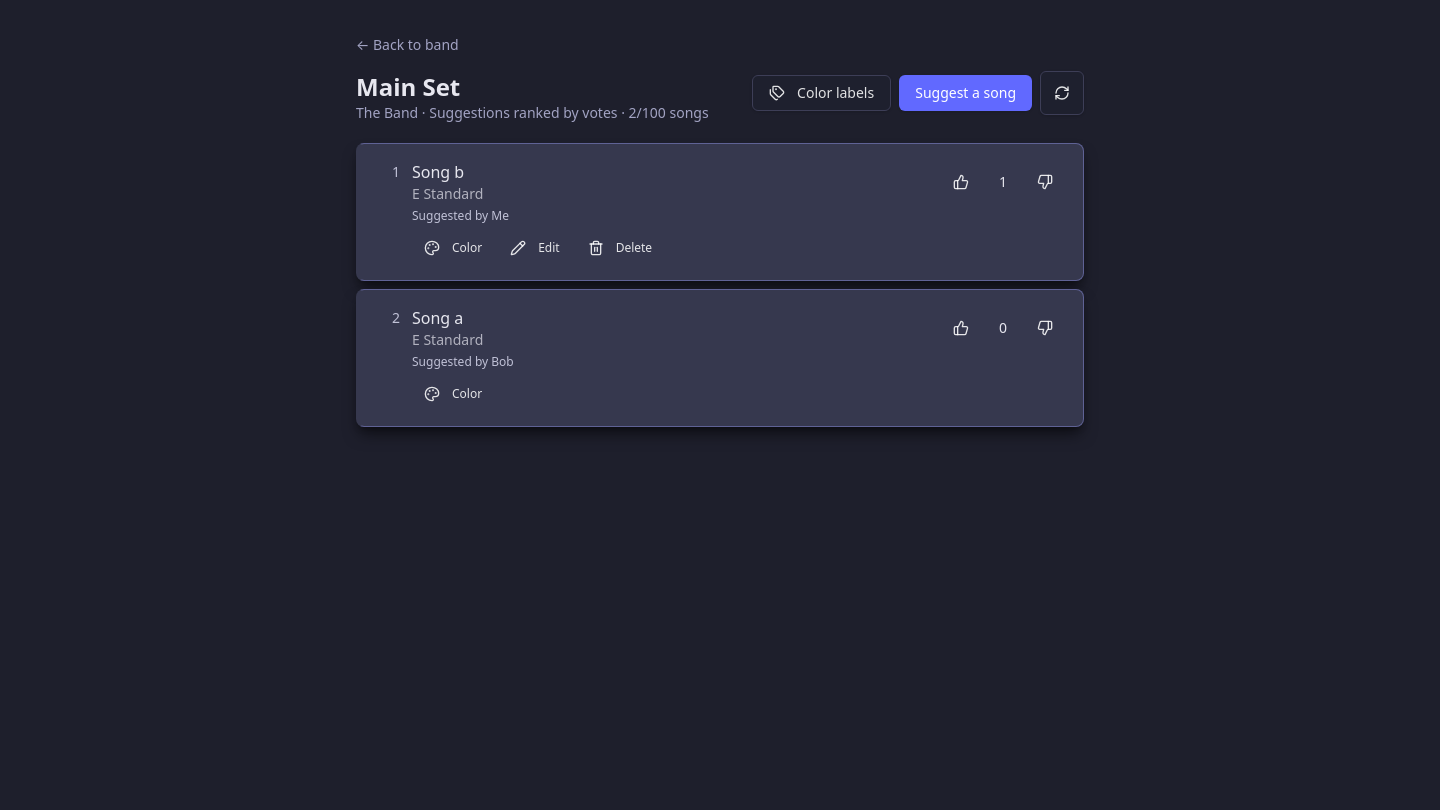
Scenario: SetListPage › color labels › Color labels dialog › saving a new label writes it for the band with no row of mine yet, shows it at once and closes
The image size is (1440, 810).
Expected: the text "Song a" is shown, x1=412 y1=307 x2=463 y2=329
Click the button "Color labels": {"x": 822, "y": 93} x1=752 y1=75 x2=891 y2=111
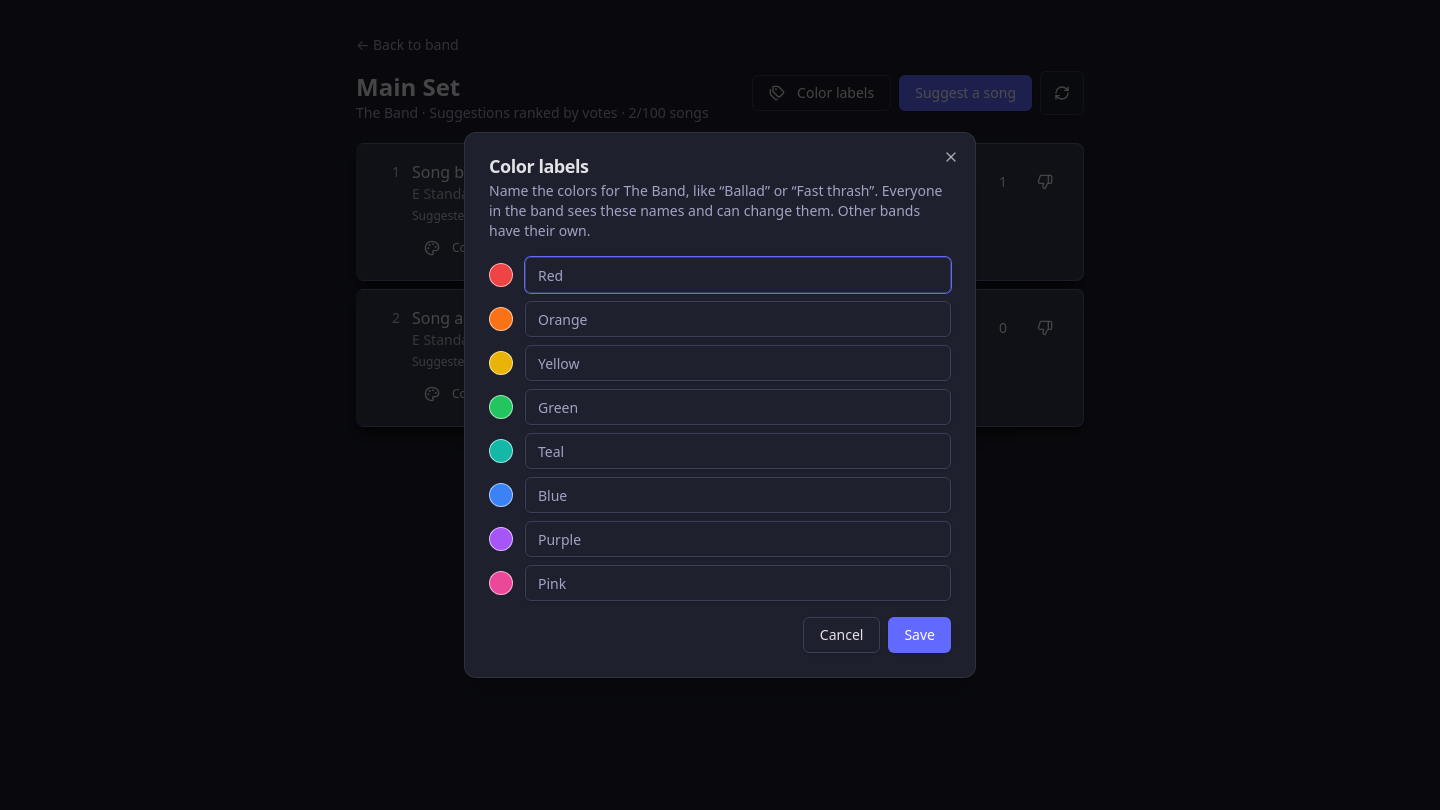
In the field with placeholder "Red": {"x": 738, "y": 275} x1=525 y1=257 x2=951 y2=293, type "Ballad"
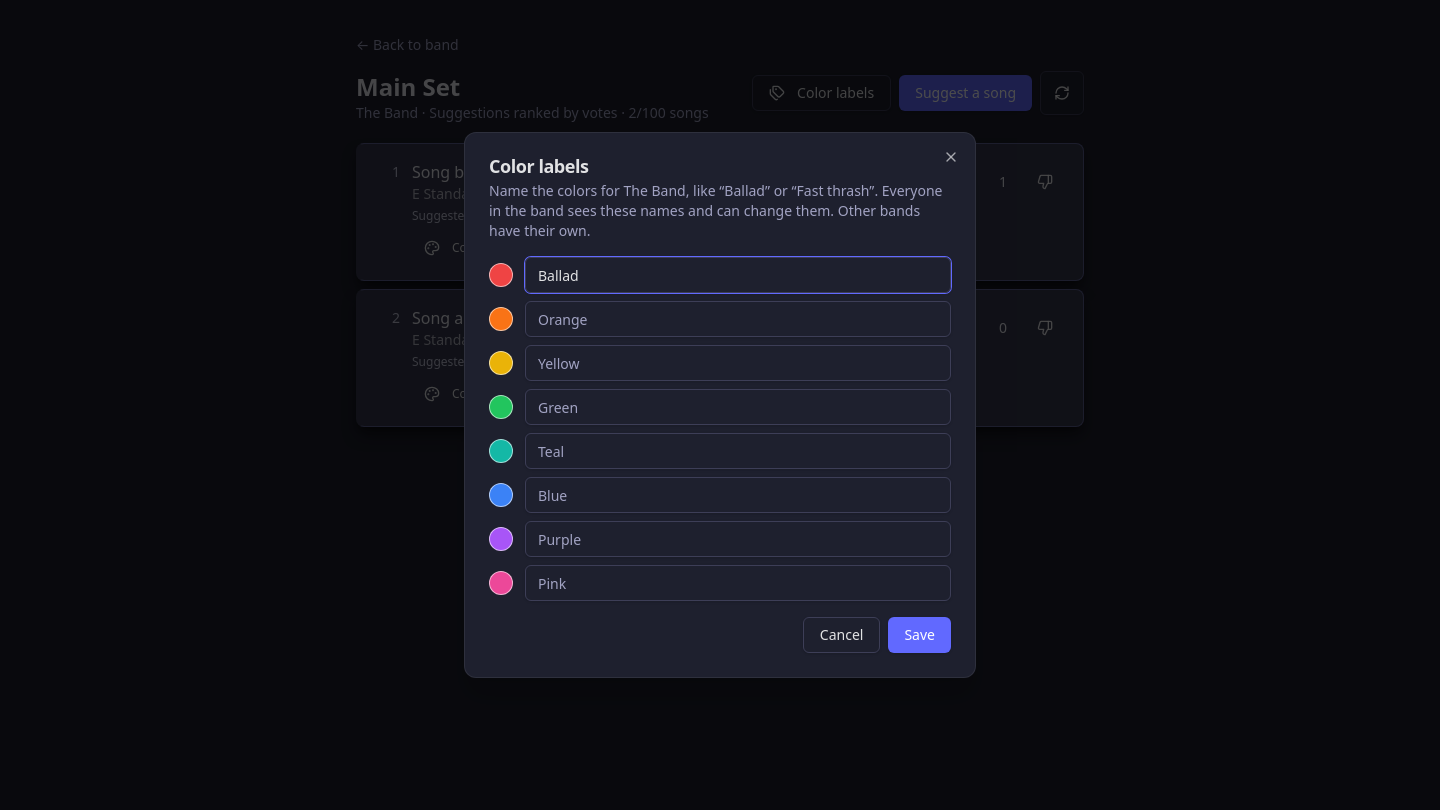
Click the button "Save": {"x": 920, "y": 635} x1=888 y1=617 x2=951 y2=653
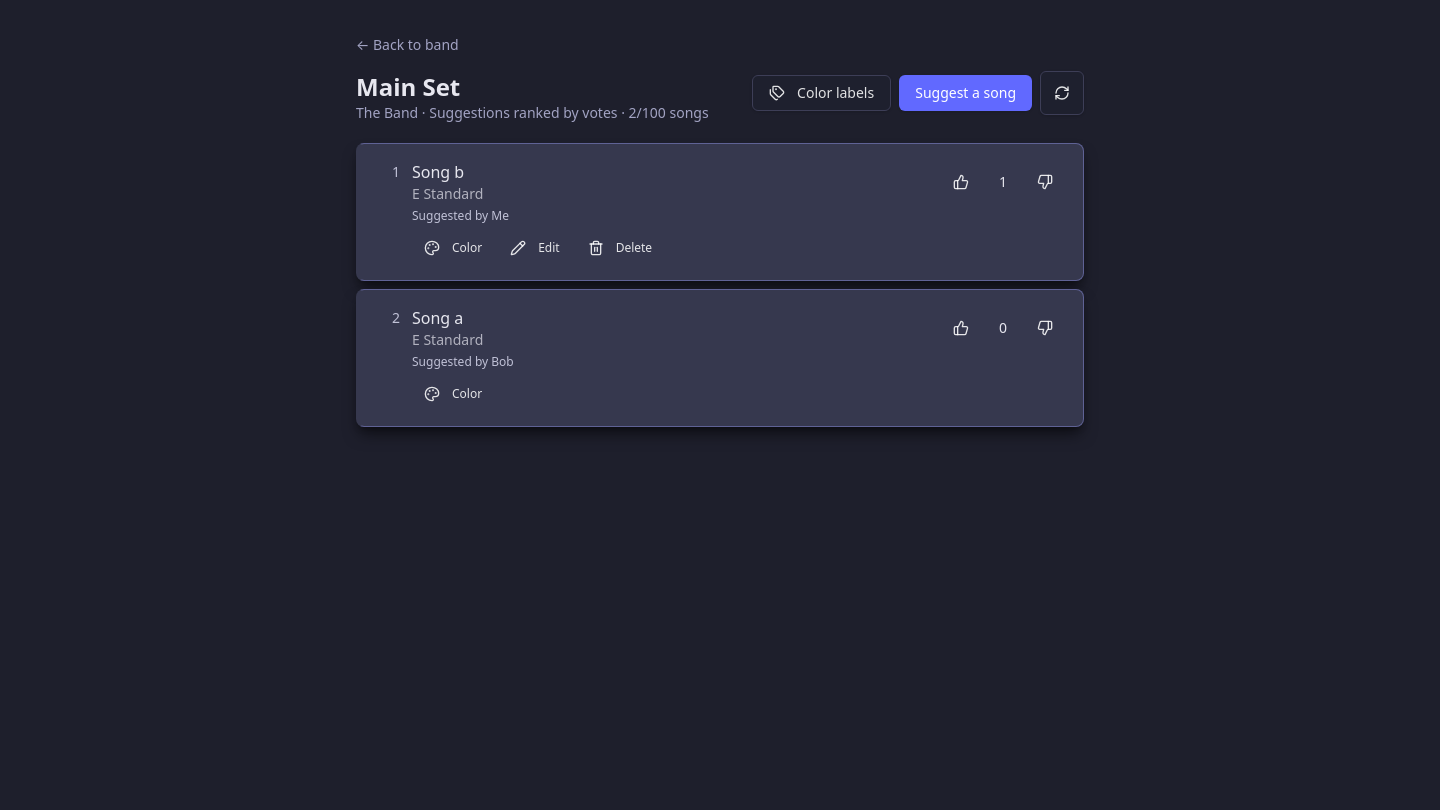
Now the dialog is gone
